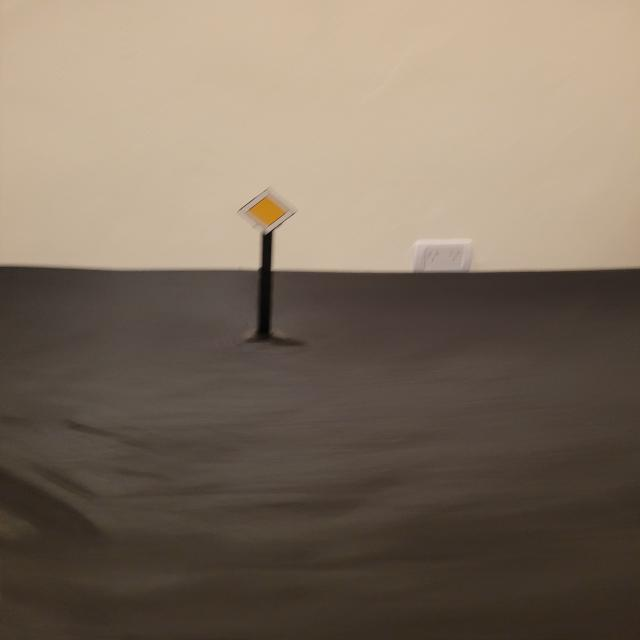priority: (236, 187, 298, 235)
